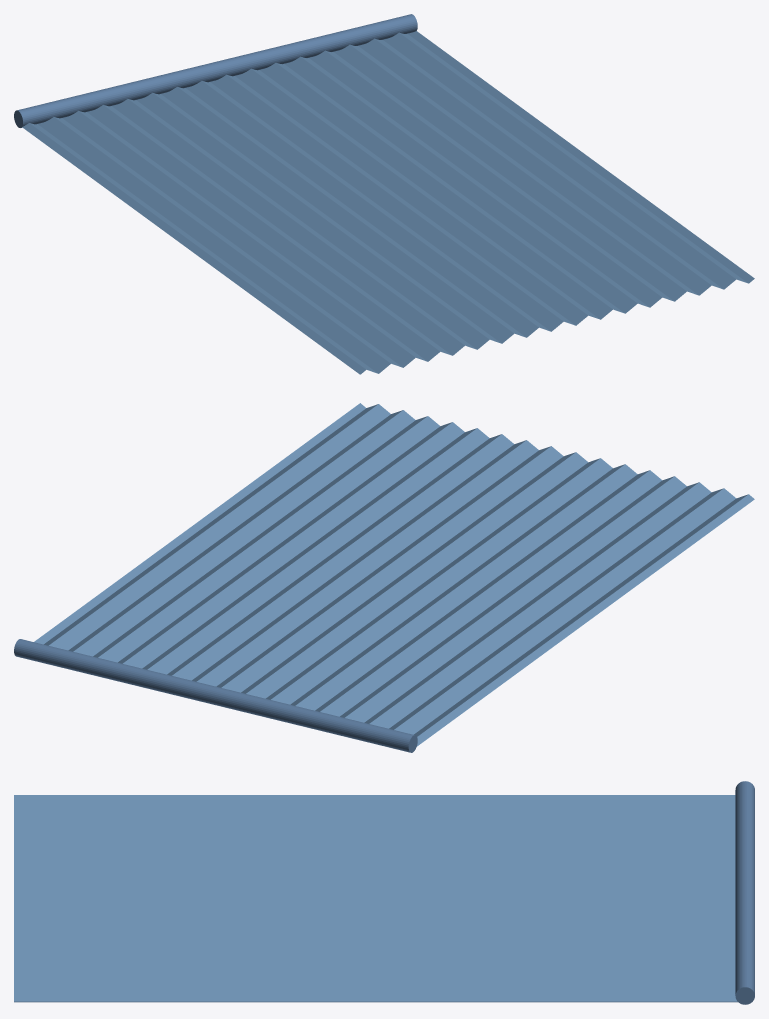
The model's file is corrugated_metal_roof.glb.
3 renders of one model, top to bottom at view 1: azimuth 30°, elevation 25°; view 2: azimuth 150°, elevation 25°; view 3: azimuth 270°, elevation 25°, orthographic. The views are drawn at different scales.
Parts seen in each view (by area): view 1: CorrugatedRoof, Cylinder; view 2: CorrugatedRoof, Cylinder; view 3: CorrugatedRoof, Cylinder.
Boxes of the visible parts, x1,y1,x2,y2 form: CorrugatedRoof: (22, 31, 754, 374); Cylinder: (14, 14, 417, 127); CorrugatedRoof: (34, 403, 754, 746); Cylinder: (14, 639, 417, 752); CorrugatedRoof: (14, 795, 737, 1002); Cylinder: (735, 781, 754, 1004).
Bounding box in the file's own units: 4 × 0.1675 × 6.08.
